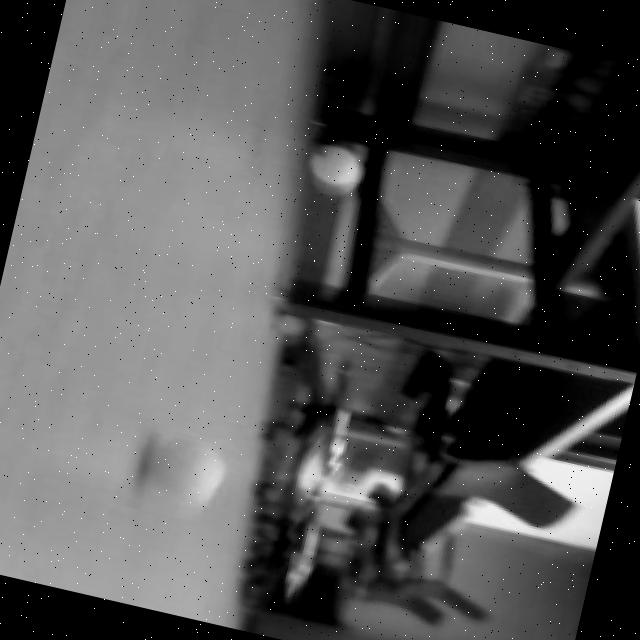ping-pong-ball: (125, 425, 238, 517), (304, 136, 374, 195)
